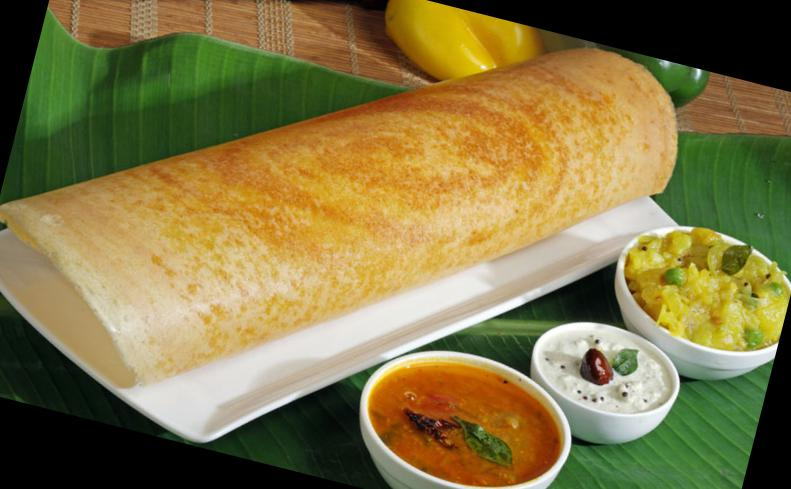dosa: (3, 38, 679, 387)
